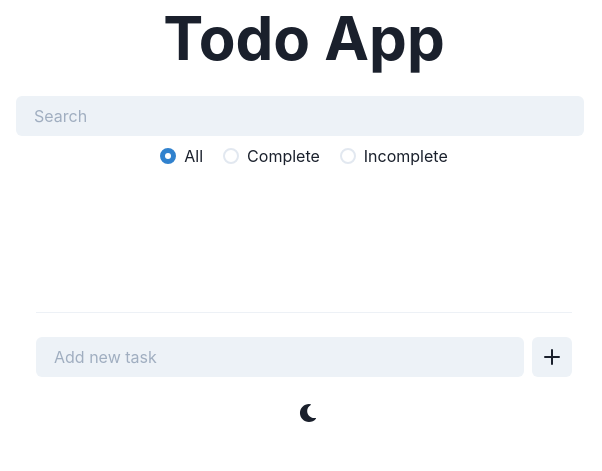
Test: todo list flows › can check off an item as completed
Type "Feed the cat" into the field with test id "taskinput-todo-app" at (280, 357), box [36, 337, 524, 377]
Then press Enter
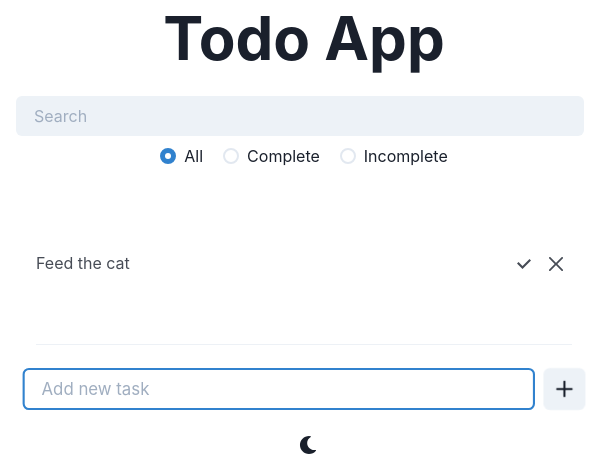
Click the button with test id "taskbutton-todo-app-done" at (524, 264), box [508, 248, 540, 280]
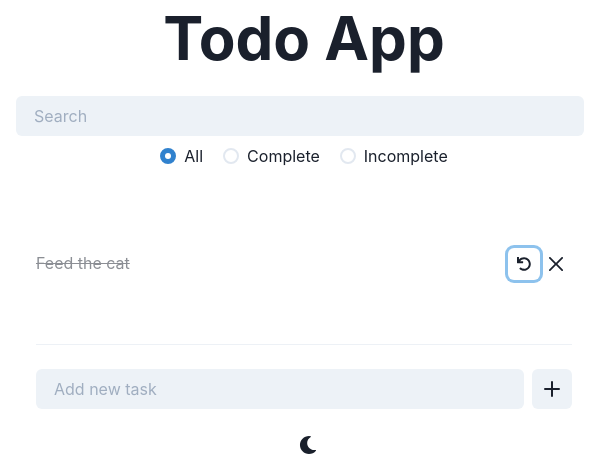
Expected: the number of buttons with test id "taskbutton-todo-app-undone" is 1, [508, 248, 540, 280]
